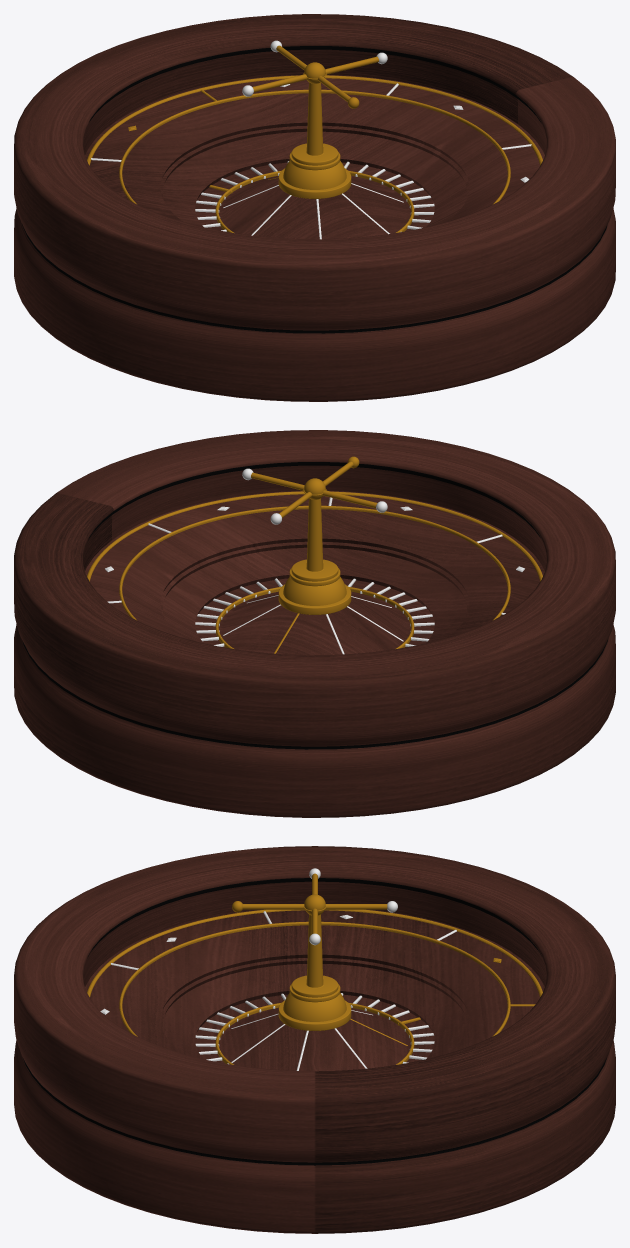
Rendered from roulette_table.fbx.
3 renders of one model, top to bottom at view 1: azimuth 30°, elevation 25°; view 2: azimuth 150°, elevation 25°; view 3: azimuth 270°, elevation 25°, orthographic.
Visible parts, largest first — view 1: Tube, Cylinder_2_2, Tube_2, Tube_1, Sphere, Cylinder_3, Tube_3, Cylinder, Cylinder_5, Cylinder_2; view 2: Tube, Cylinder_2_2, Tube_2, Tube_1, Sphere, Cylinder_3, Tube_3, Cylinder, Cylinder_5, Cylinder_2; view 3: Tube, Cylinder_2_2, Tube_2, Tube_1, Sphere, Tube_3, Cylinder_3, Cylinder, Cylinder_4, Cylinder_2.
Boxes of the visible parts, x1,y1,x2,y2 form: Tube: (14,14,615,401); Cylinder_2_2: (85,75,544,239); Tube_2: (119,89,510,204); Tube_1: (87,75,542,165); Sphere: (283,151,346,189); Cylinder_3: (306,82,323,155); Tube_3: (215,170,414,233); Cylinder: (278,168,351,198); Cylinder_5: (252,56,378,92); Cylinder_2: (291,143,338,165); Tube: (14,430,615,817); Cylinder_2_2: (85,491,544,655); Tube_2: (119,505,510,620); Tube_1: (87,491,542,581); Sphere: (283,567,346,605); Cylinder_3: (306,498,323,571); Tube_3: (215,586,414,649); Cylinder: (278,584,351,614); Cylinder_5: (251,472,377,508); Cylinder_2: (291,559,338,581); Tube: (14,846,615,1233); Cylinder_2_2: (85,909,544,1071); Tube_2: (119,921,510,1036); Tube_1: (87,909,542,997); Sphere: (283,983,346,1021); Tube_3: (215,1002,414,1064); Cylinder_3: (306,914,323,987); Cylinder: (278,1000,351,1030); Cylinder_4: (242,904,387,909); Cylinder_2: (291,975,338,997).
Size of what is drawn, in the model's own units: 400 by 157 by 400.
Materials: 3 (1 with a texture image).
